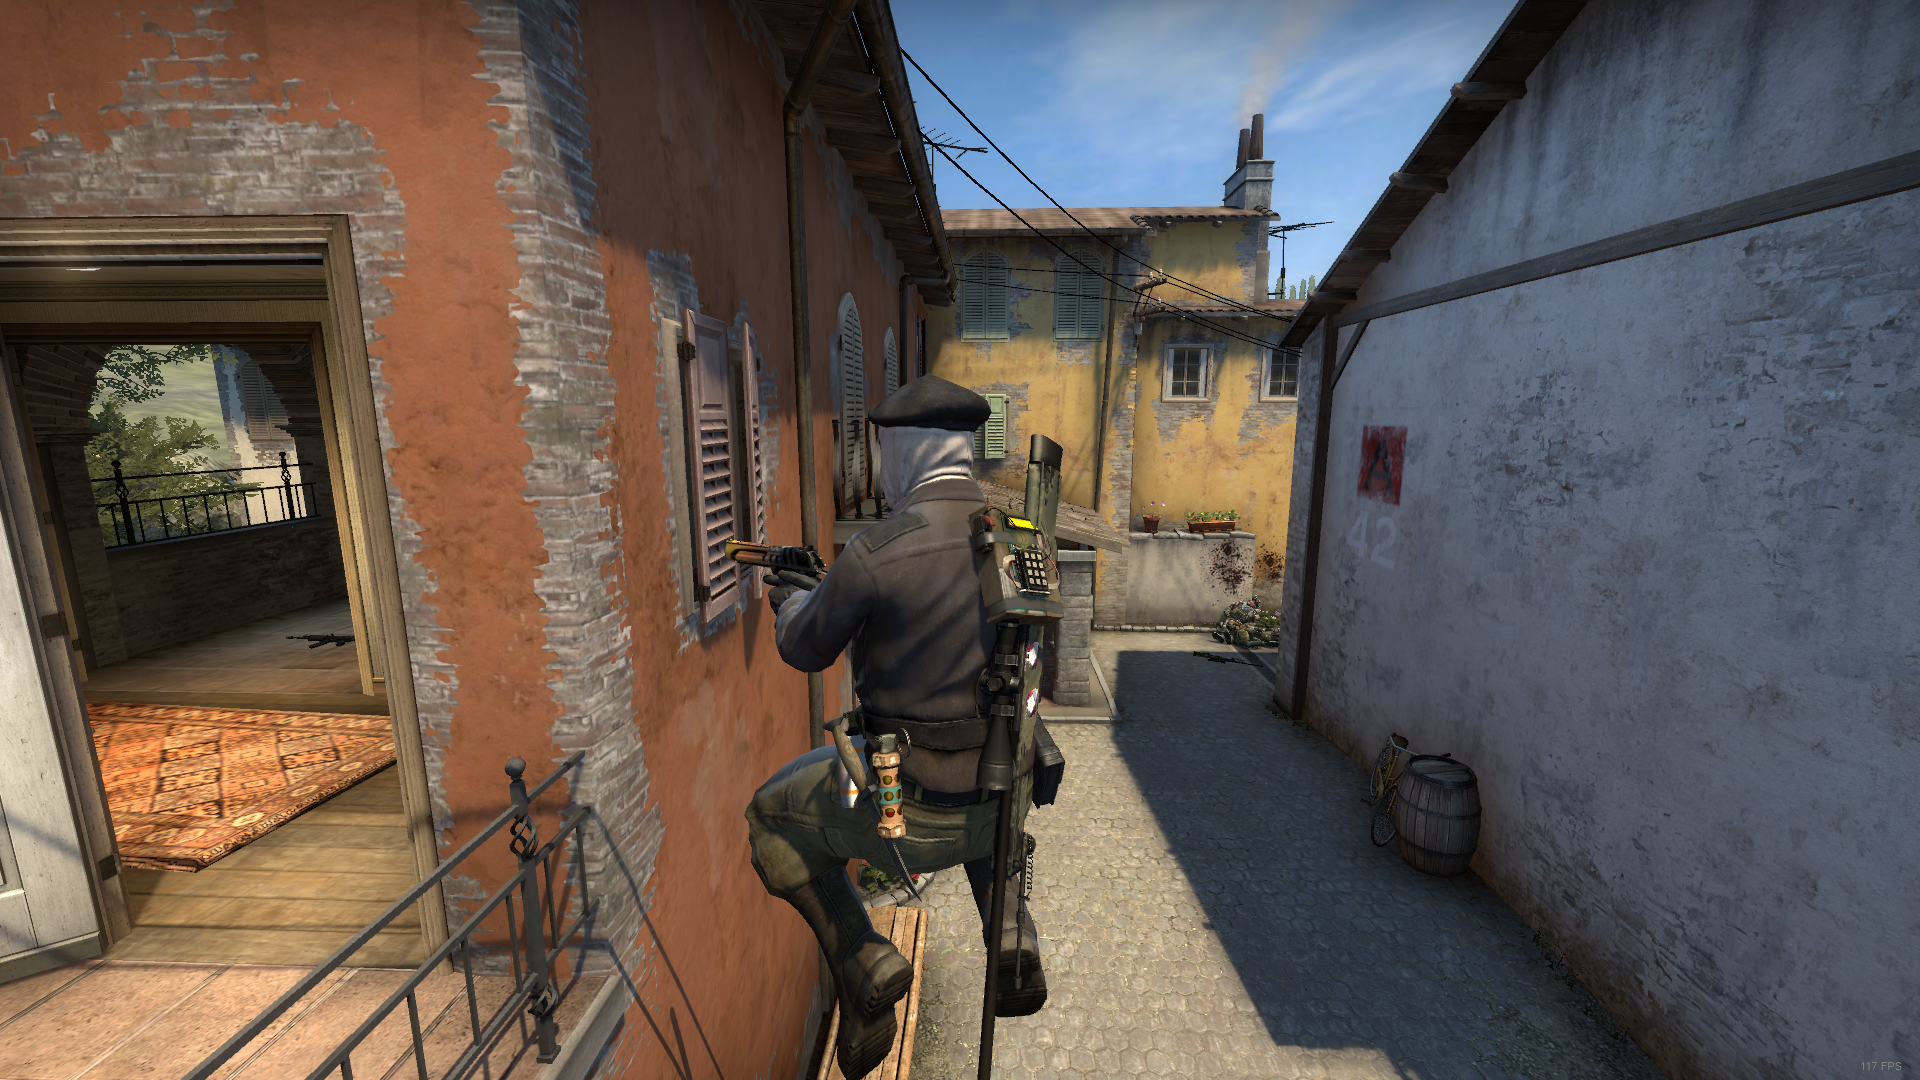t: (746, 373, 1065, 1079)
